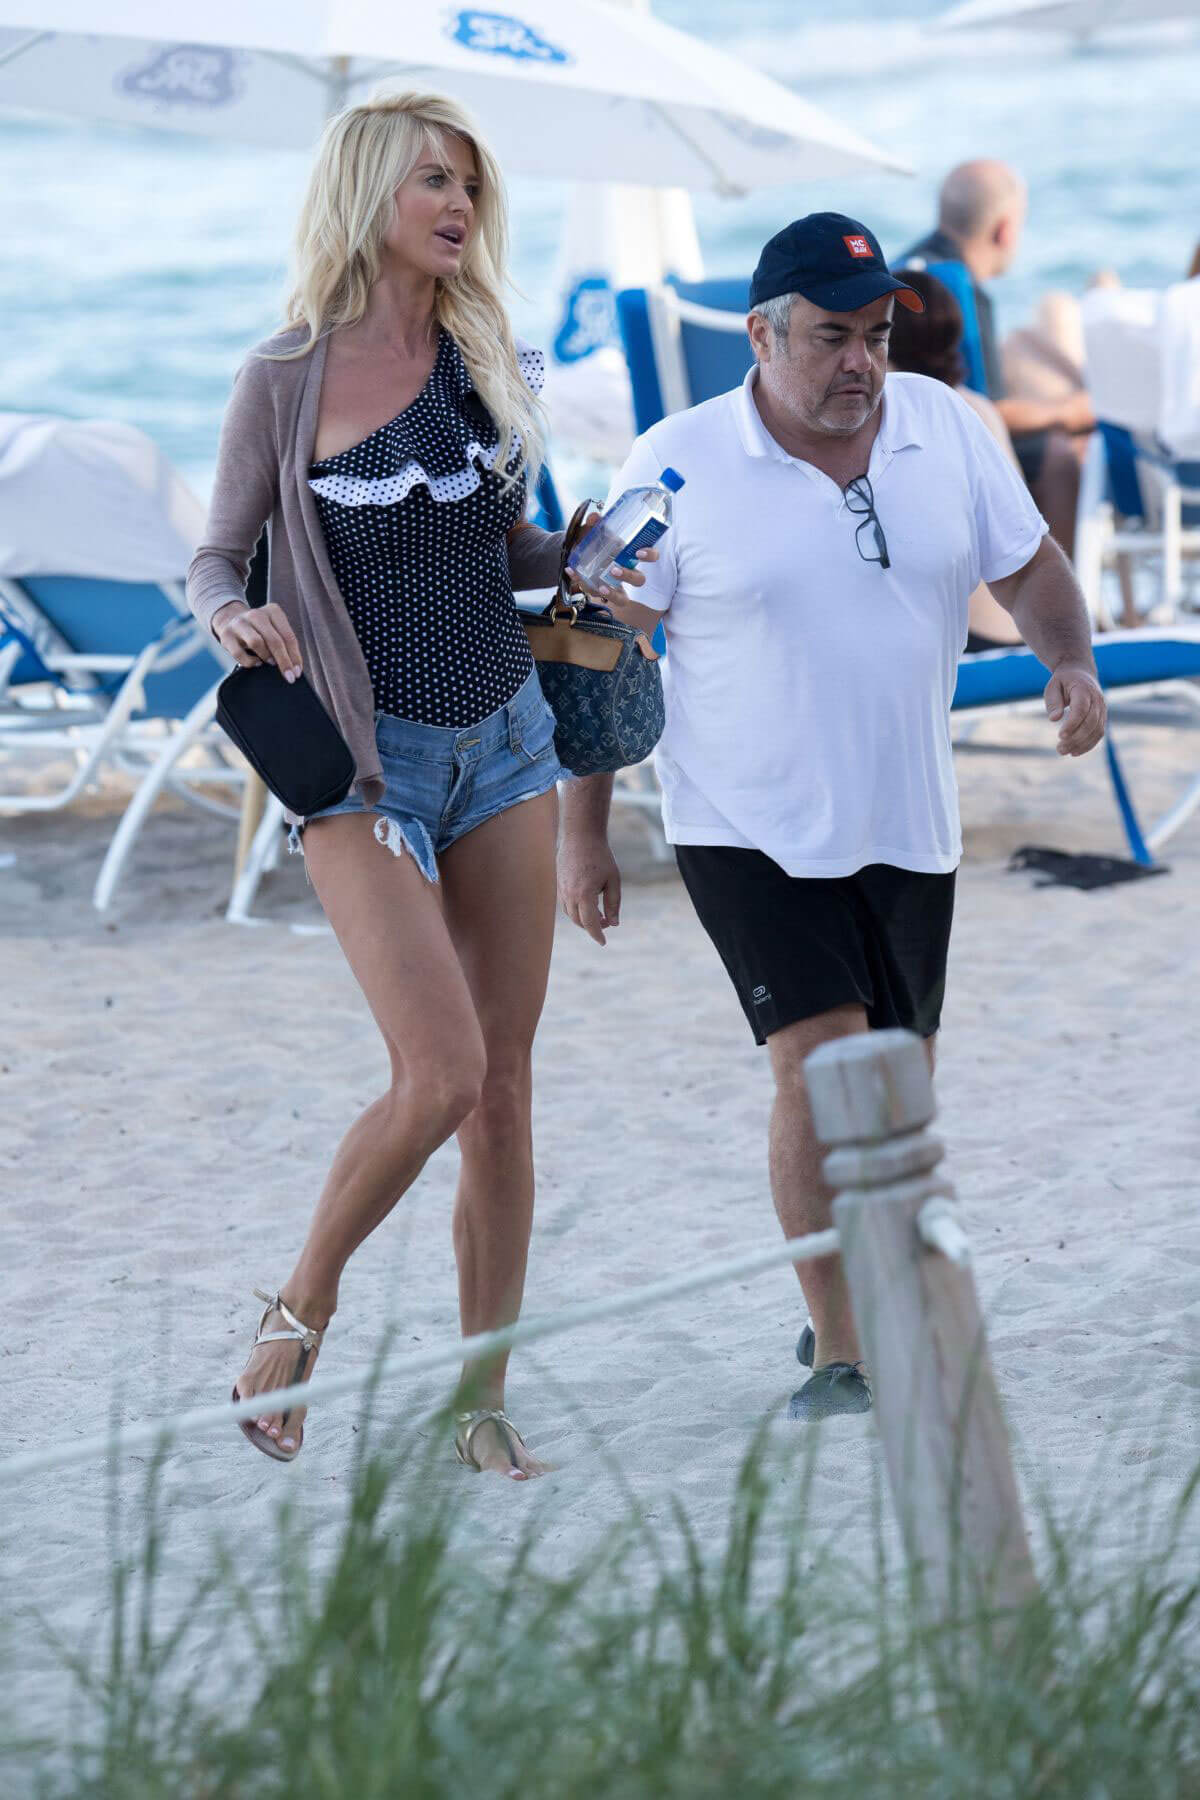Person: (560, 214, 1110, 1417), (169, 85, 633, 1485)
